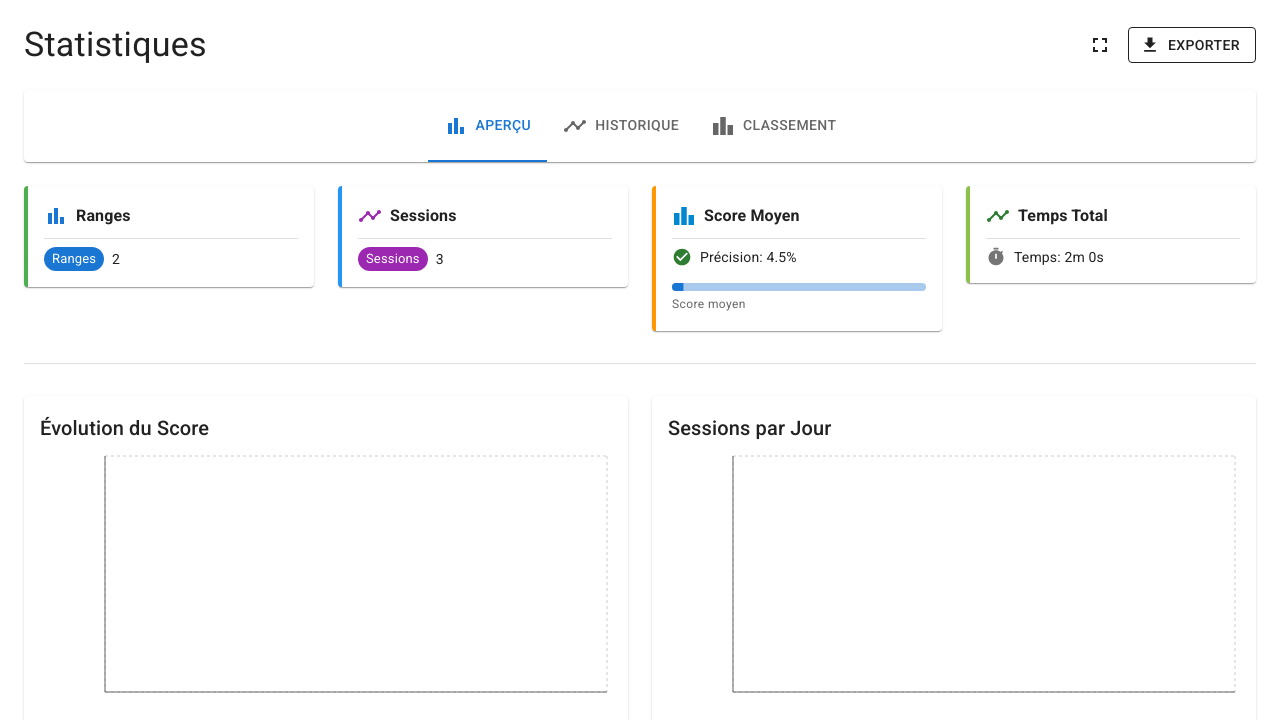
Test: Stats page › renders the history table rows when history data is present
Click the tab "Historique".
click(621, 126)  # box x1=547 y1=90 x2=695 y2=162
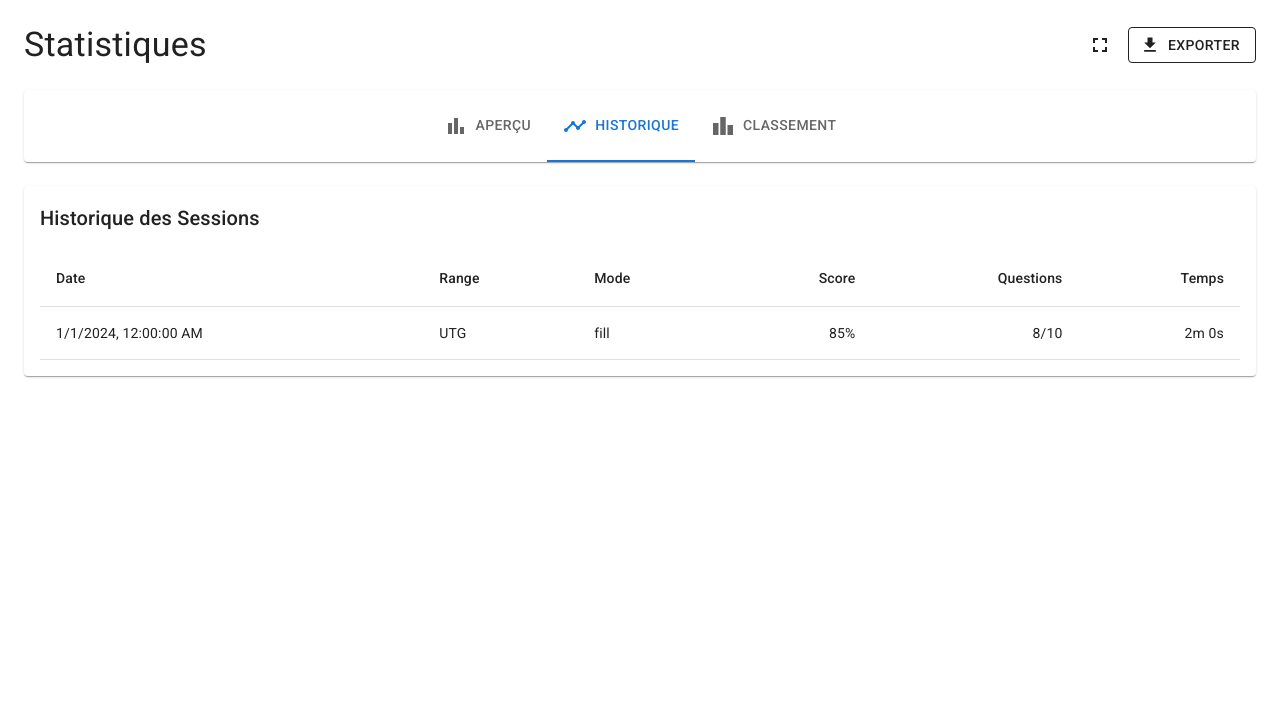
Check: the text "UTG" is shown, box x1=423 y1=306 x2=578 y2=360
